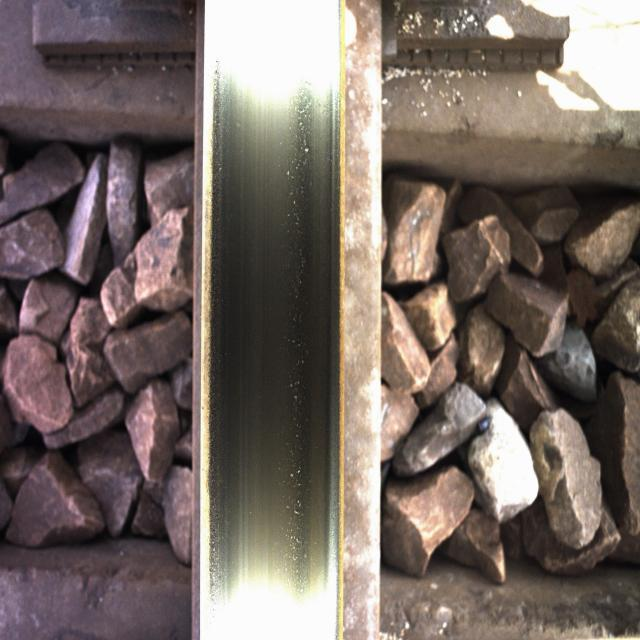break: (214, 44, 328, 592)
